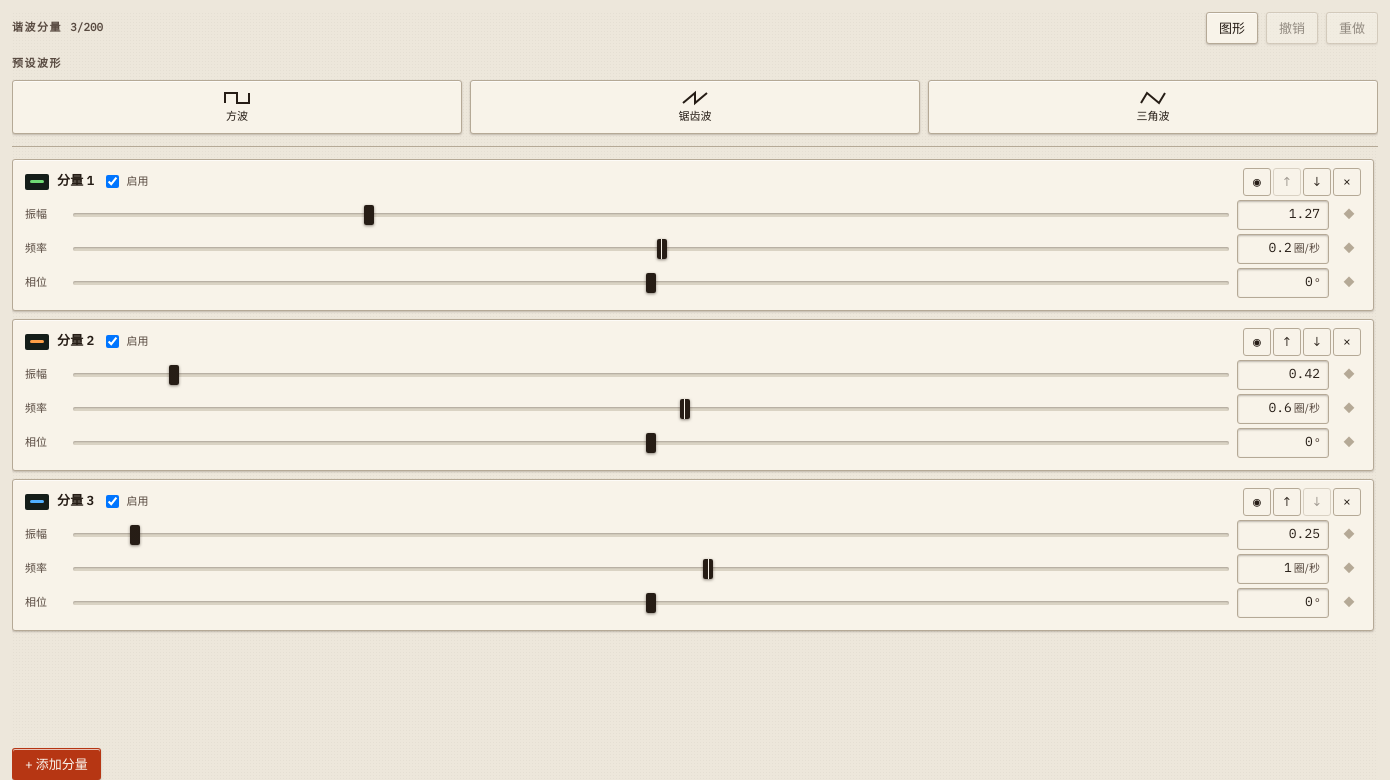
ComponentsPanel › an invalid number keeps the previous value and leaves the document untouched
Replace the text in the 1st field named "分量 1 振幅数值" with "999". click: (1283,215)
box: [1246,203,1320,227]
Then press Enter
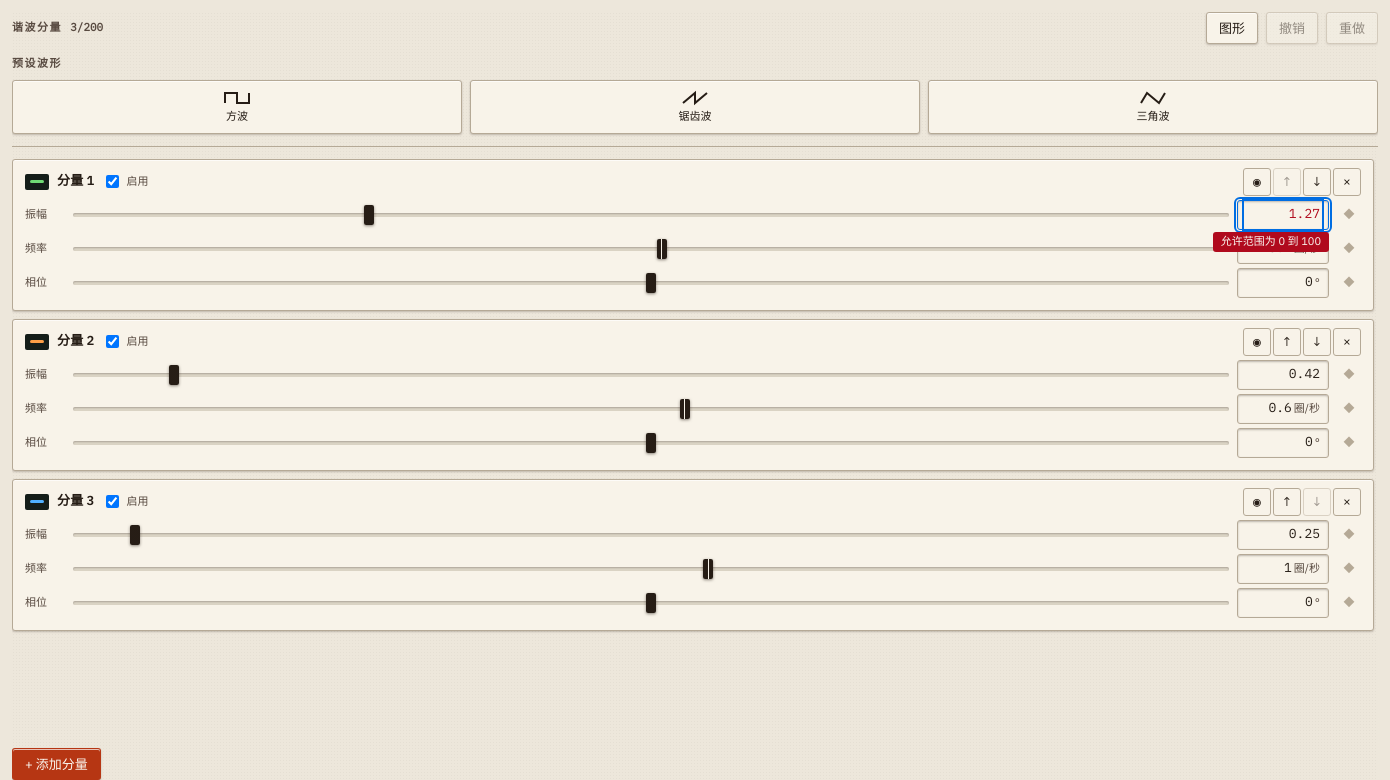
expect the message shows "0 到 100": met, box [1221,234,1321,248]
